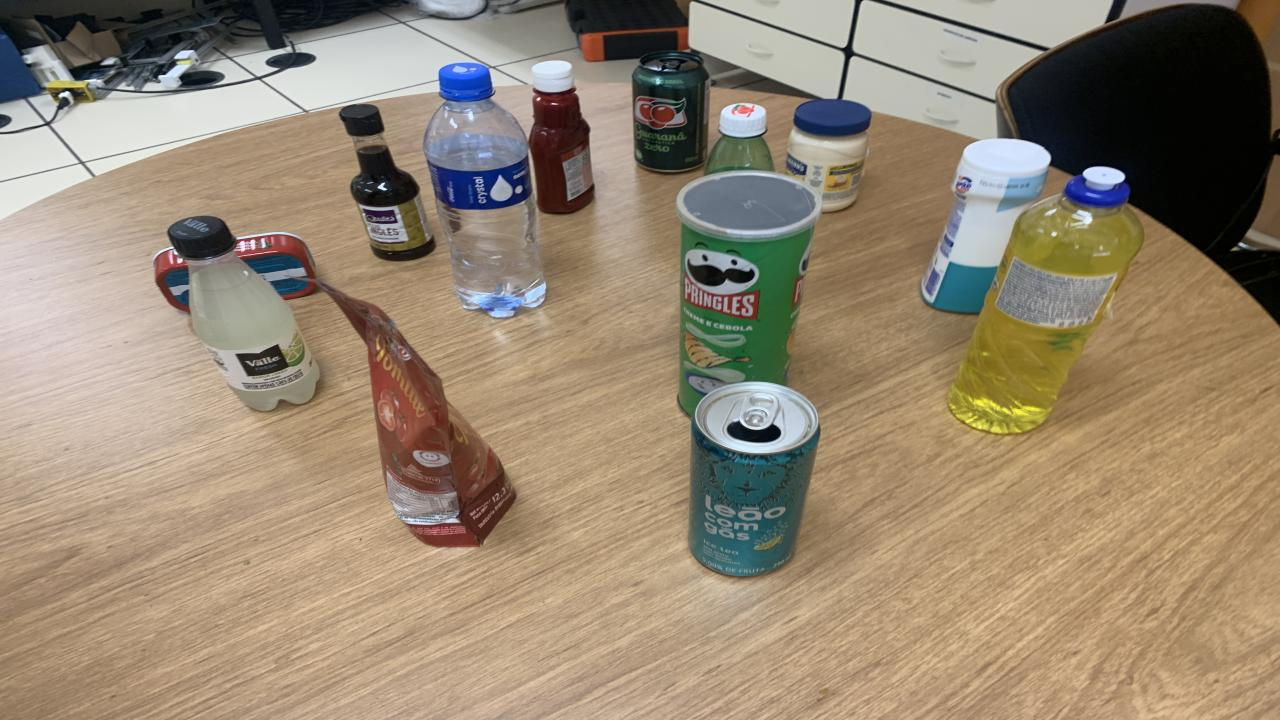Cleaner-Cleanup_Items: (920, 139, 1050, 313)
Detergent-Cleanup_Items: (948, 167, 1142, 433)
English_Sauce-Pantry_Items: (340, 105, 435, 261)
Guarana-Drinks: (705, 103, 775, 174)
Guarana_Can-Drinks: (632, 51, 710, 172)
Ketchup-Pantry_Items: (528, 62, 595, 214)
Mayonnaise-Pantry_Items: (785, 99, 870, 212)
Pringles-Snacks: (675, 171, 820, 414)
Soda-Drinks: (168, 216, 320, 411)
Tea-Drinks: (688, 382, 820, 576)
Tomato_Sauce-Pantry_Items: (320, 283, 515, 548)
Tuna_Can-Pantry_Items: (235, 232, 315, 298), (152, 248, 190, 311)
Water_Bottle-Drinks: (422, 64, 545, 317)
